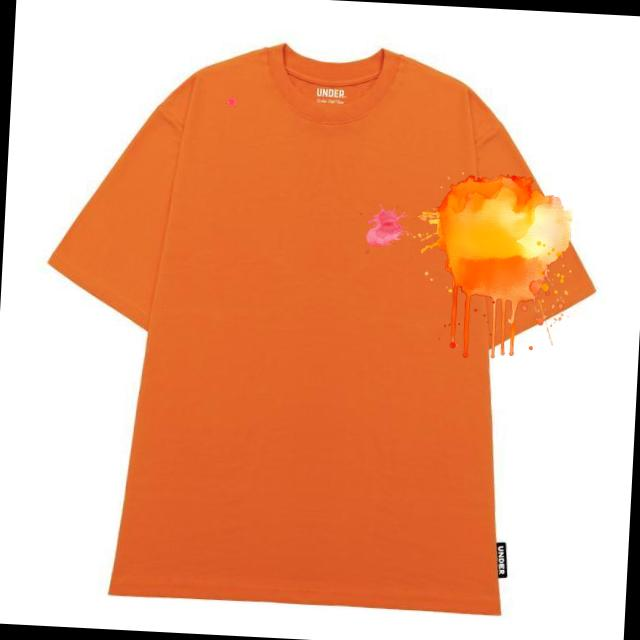stain: (424, 177, 578, 363), (350, 198, 410, 258), (207, 89, 247, 116)
